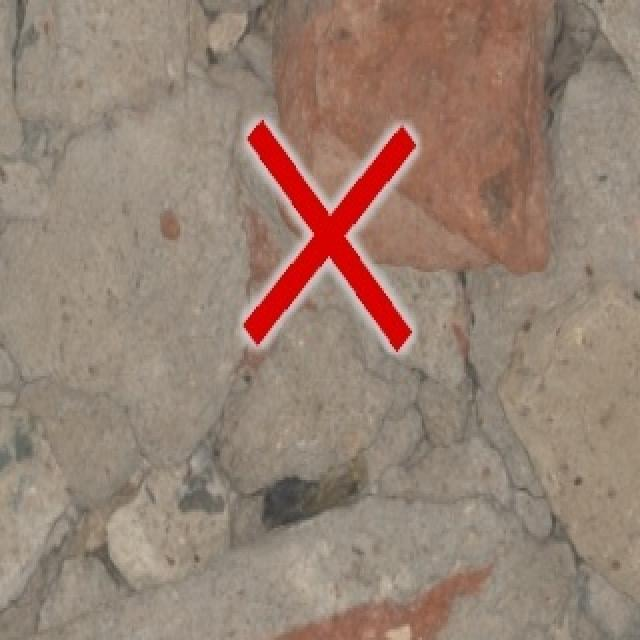x_marker: (243, 121, 415, 348)
